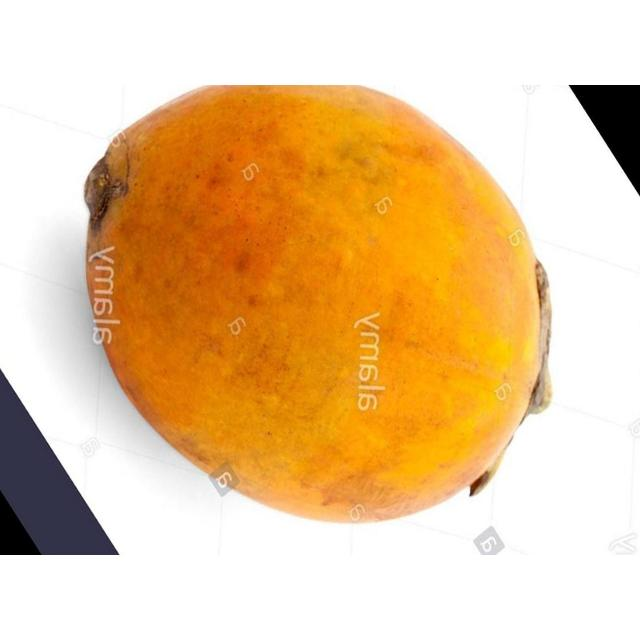good: (82, 85, 550, 527)
